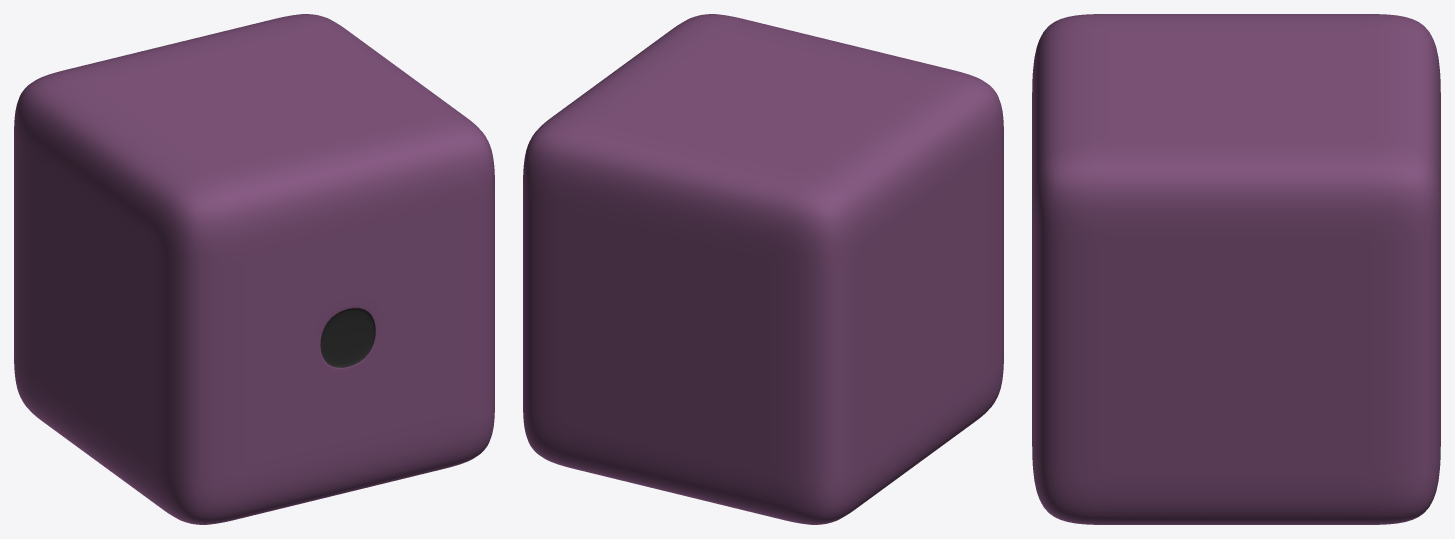
Rendered from dice_1.fbx.
3 views of the same model, side by side, from view 1: azimuth 30°, elevation 25°; view 2: azimuth 150°, elevation 25°; view 3: azimuth 270°, elevation 25° (orthographic). The views are drawn at different scales.
Parts seen in each view (by area): view 1: pCube1; view 2: pCube1; view 3: pCube1.
Boxes of the visible parts, bbox=[...] form: pCube1: bbox=[14, 14, 494, 524]; pCube1: bbox=[523, 14, 1003, 524]; pCube1: bbox=[1032, 14, 1440, 524].
Bounding box in the file's own units: 100 × 100 × 100.
